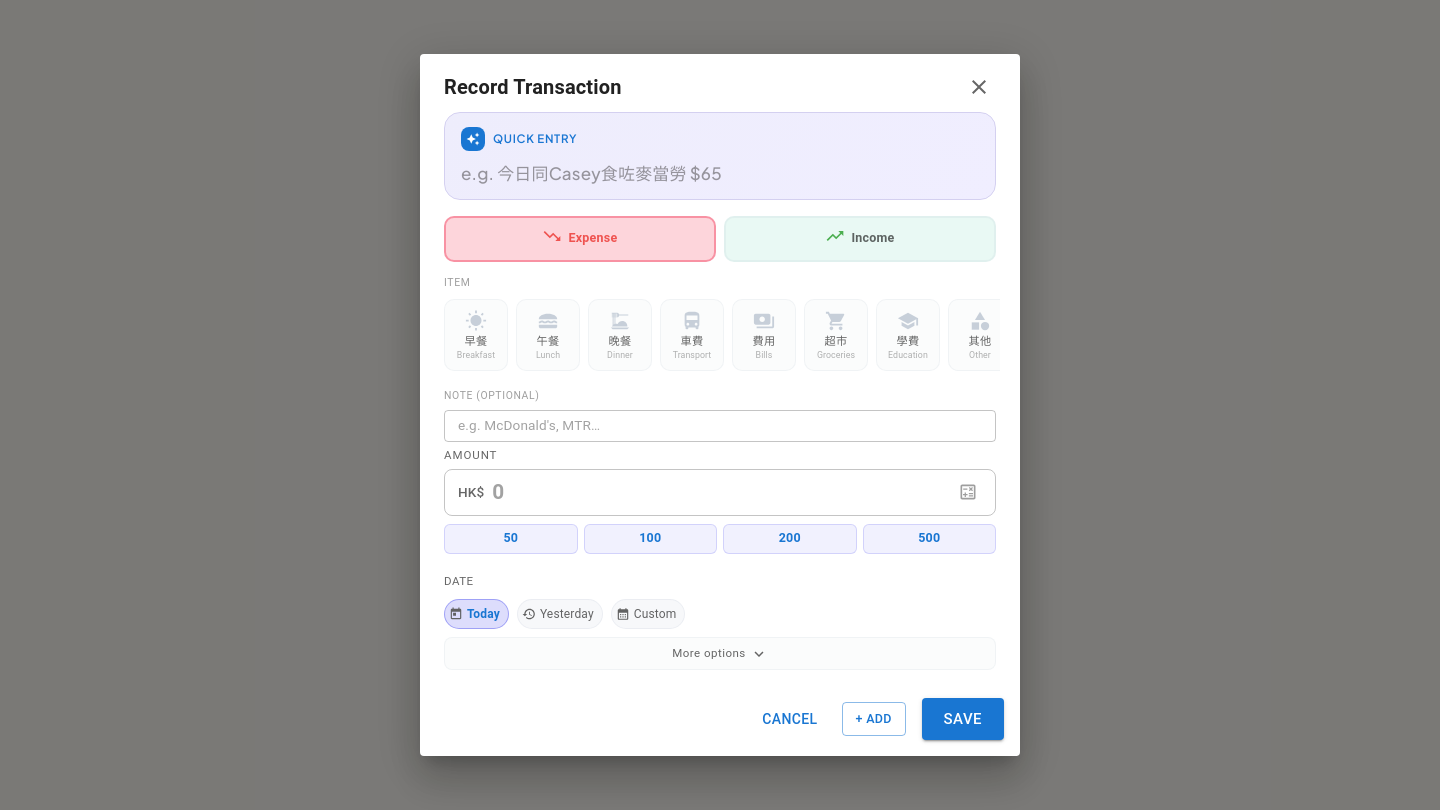
Scenario: AddExpenseModal › shows valid amount error when amount is 0
In the field with placeholder "e.g. McDonald's, MTR…": (720, 426) [444,410,996,442], type "Test"
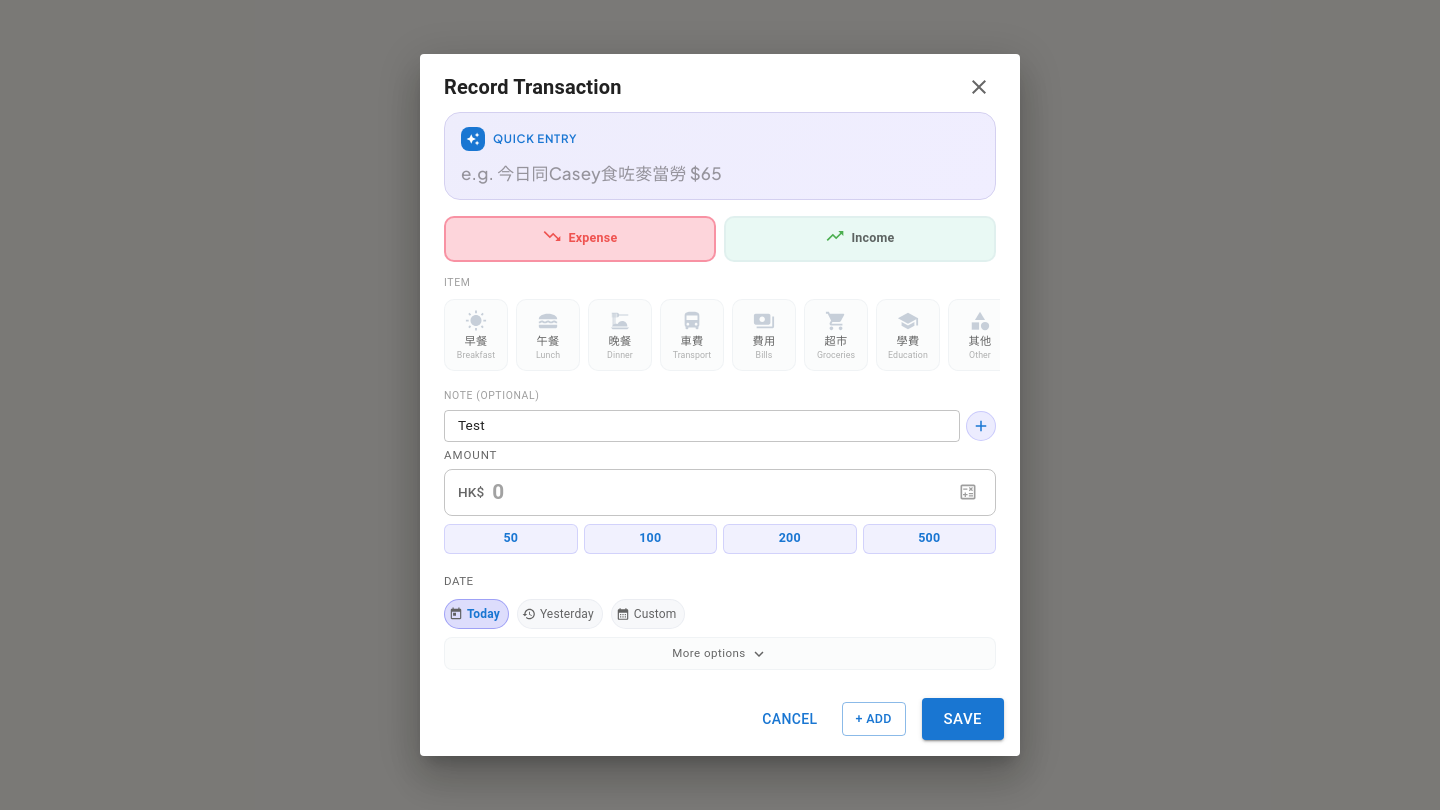
Click the button "Save": (963, 719) [922,698,1004,740]
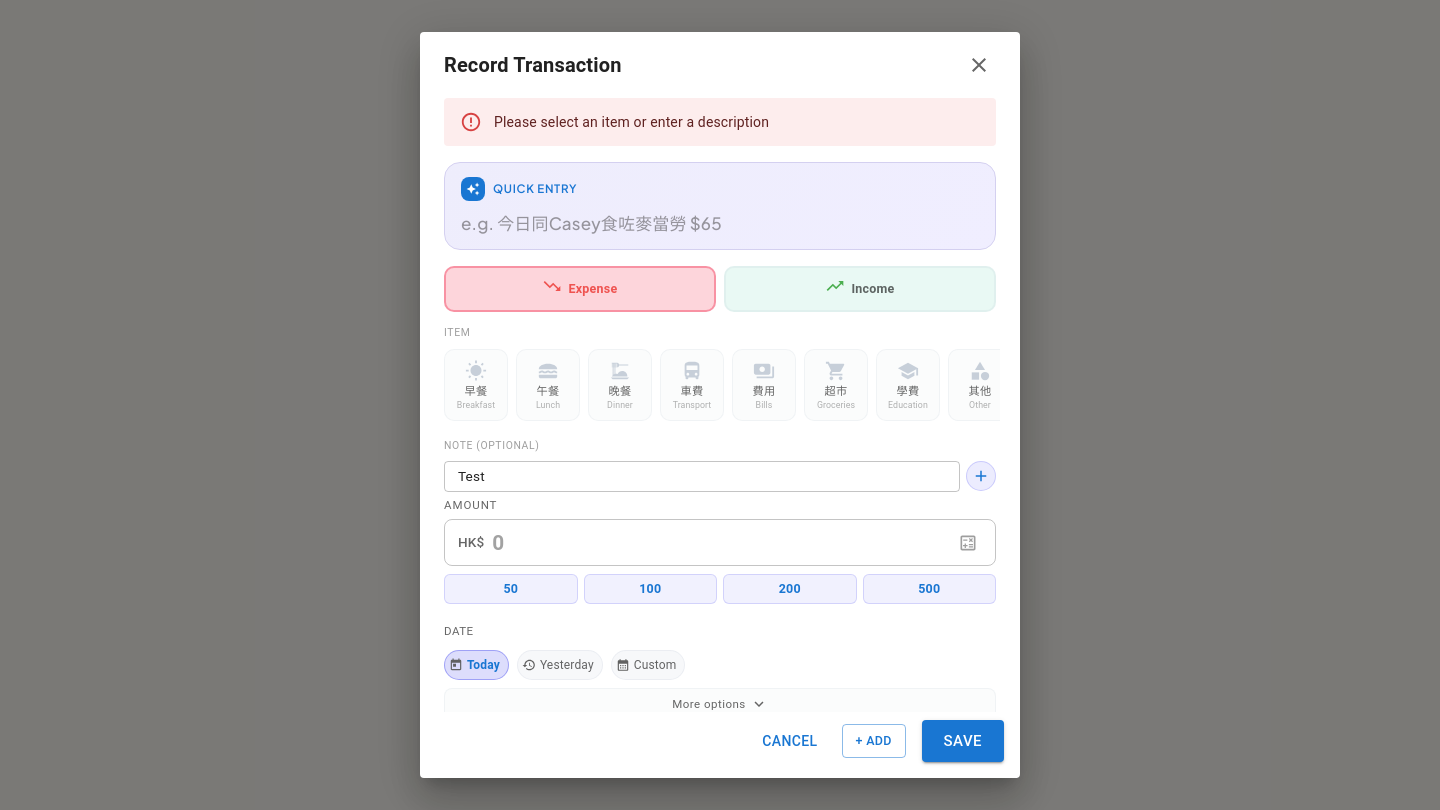
Expected: the message "Please select an item or enter a description" is shown, [444,98,996,146]
